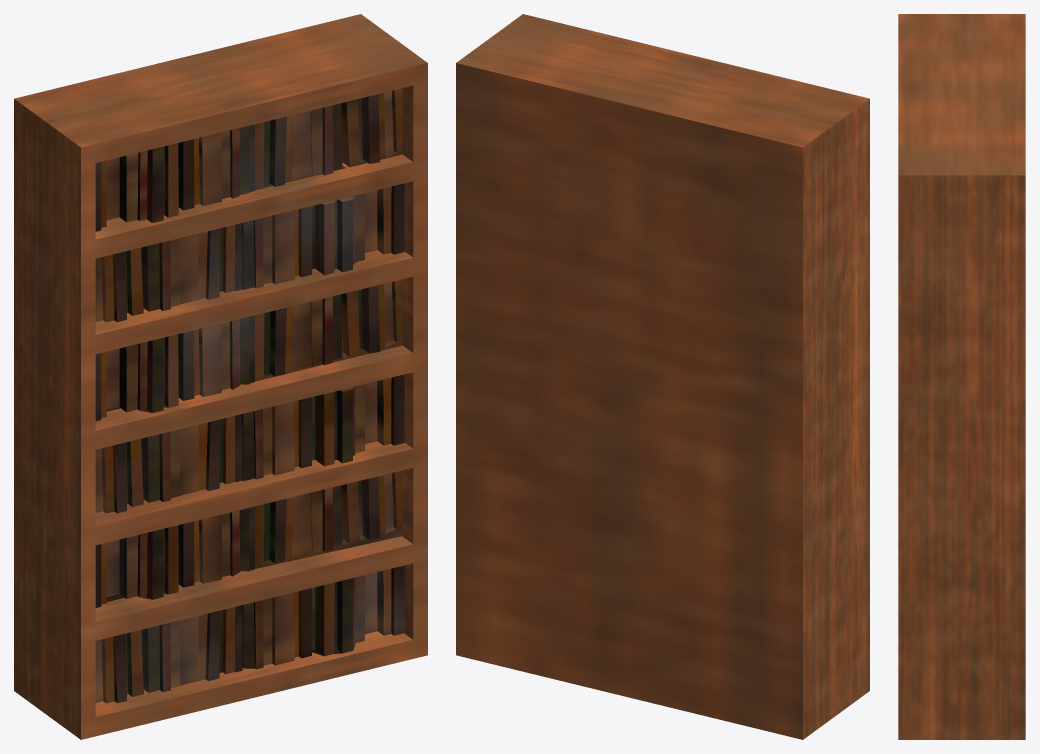
Rendered from Kitaplik.fbx.
3 renders of one model, left to right at view 1: azimuth 30°, elevation 25°; view 2: azimuth 150°, elevation 25°; view 3: azimuth 270°, elevation 25°, orthographic. The views are drawn at different scales.
Visible parts, largest first — view 1: Plane_Baked; view 2: Plane_Baked; view 3: Plane_Baked.
Boxes of the visible parts, x1,y1,x2,y2 form: Plane_Baked: (14, 14, 427, 739); Plane_Baked: (456, 14, 869, 739); Plane_Baked: (898, 14, 1025, 739).
Size of the model in its own units: 1981 by 3233 by 662.
